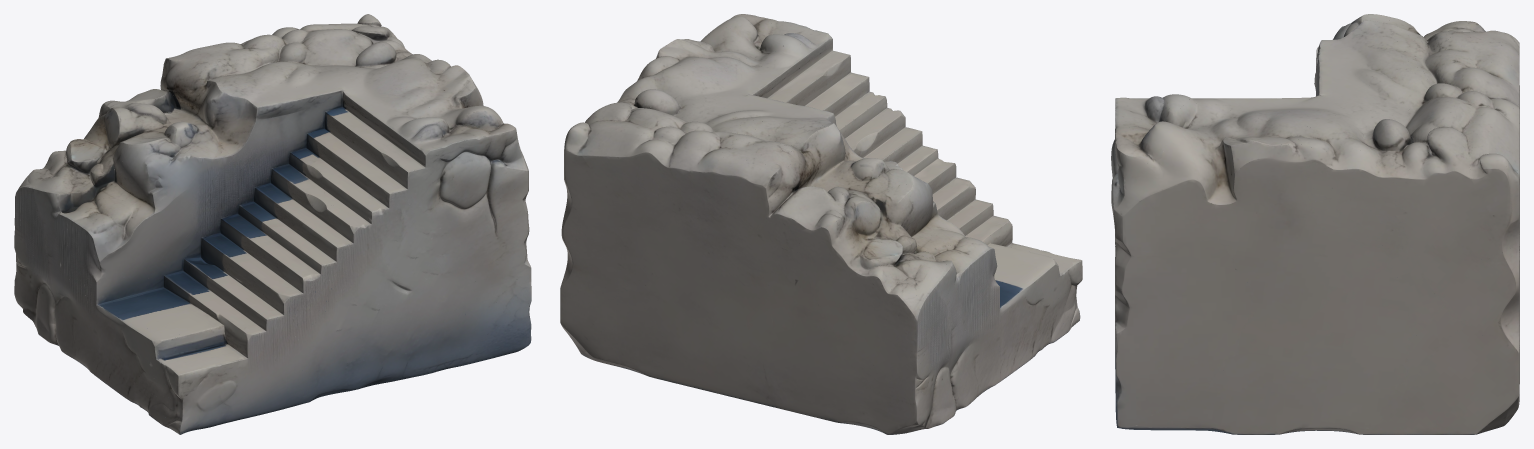
File: staircase_stone_opt.glb
The picture shows the model from 3 angles, left to right: view 1: azimuth 30°, elevation 25°; view 2: azimuth 150°, elevation 25°; view 3: azimuth 270°, elevation 25°; orthographic projection. The views are drawn at different scales.
Visible parts, largest first — view 1: material; view 2: material; view 3: material.
Part boxes in pixels (x1,y1,x2,y2): material: [14, 14, 531, 434]; material: [560, 14, 1082, 434]; material: [1111, 14, 1519, 434].
Size of the model in its own units: 0.8504 by 0.5421 by 0.6891.
Materials: 1 (1 with a texture image).
